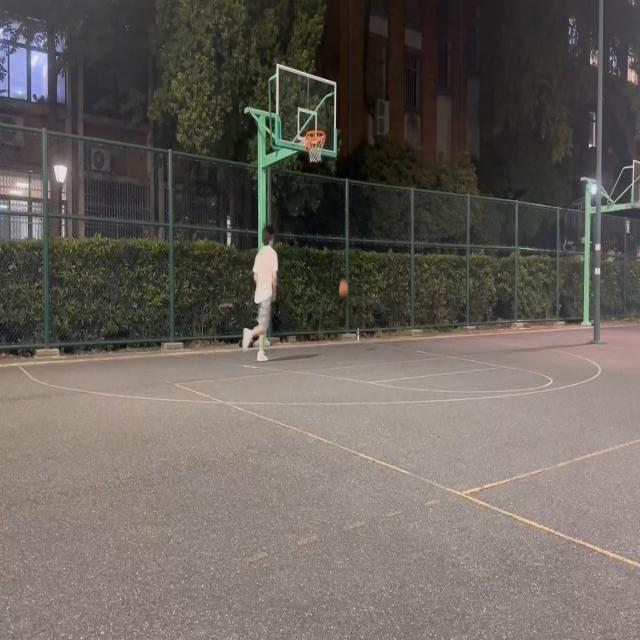basketball: (305, 130, 325, 163)
rim: (340, 279, 348, 297)
